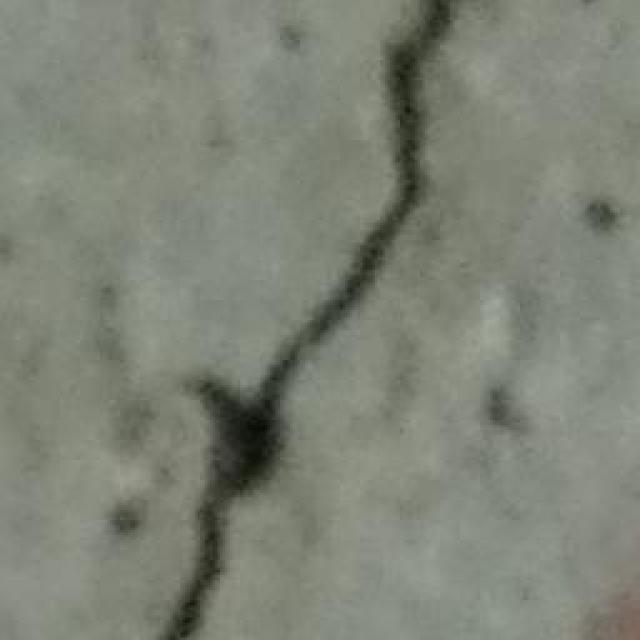Diagonal: (165, 12, 485, 640)
